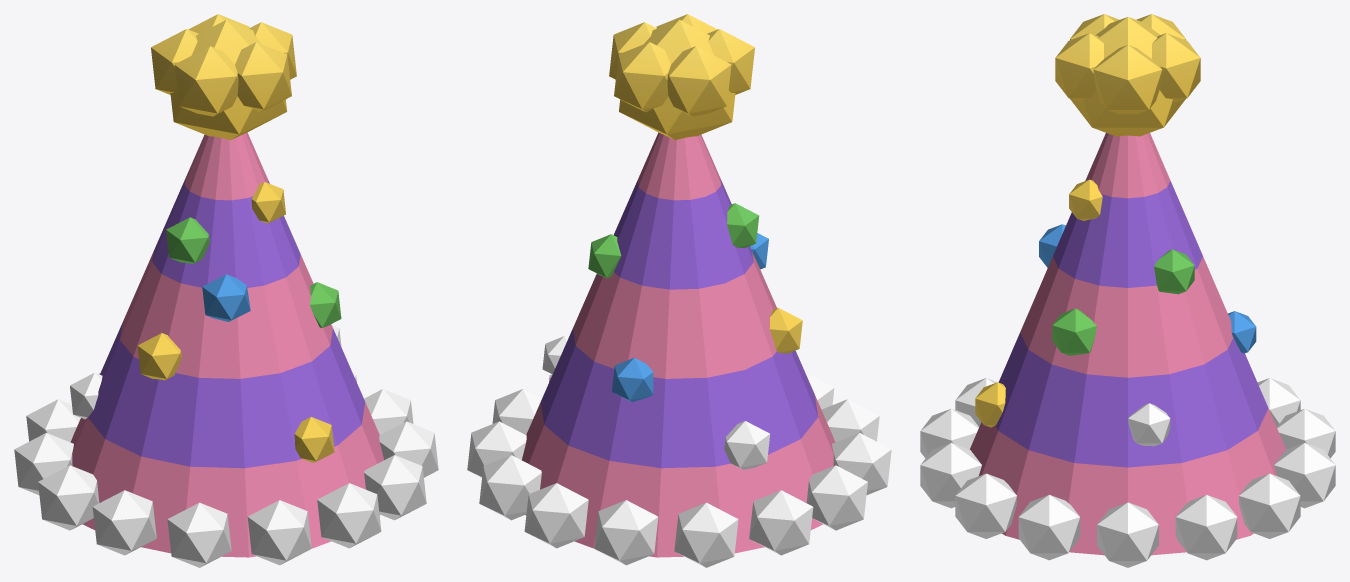
Rendered from party_hat.glb.
3 renders of one model, left to right at view 1: azimuth 30°, elevation 25°; view 2: azimuth 150°, elevation 25°; view 3: azimuth 270°, elevation 25°, orthographic.
Parts seen in each view (by area): view 1: party_cone; view 2: party_cone; view 3: party_cone.
Part boxes in pixels (x1=…): party_cone: x1=14, y1=14, x2=438, y2=567; party_cone: x1=467, y1=14, x2=891, y2=567; party_cone: x1=920, y1=14, x2=1335, y2=567.
Bounding box in the file's own units: 0.5305 × 0.65 × 0.5153.
1 material, 1 textured.
